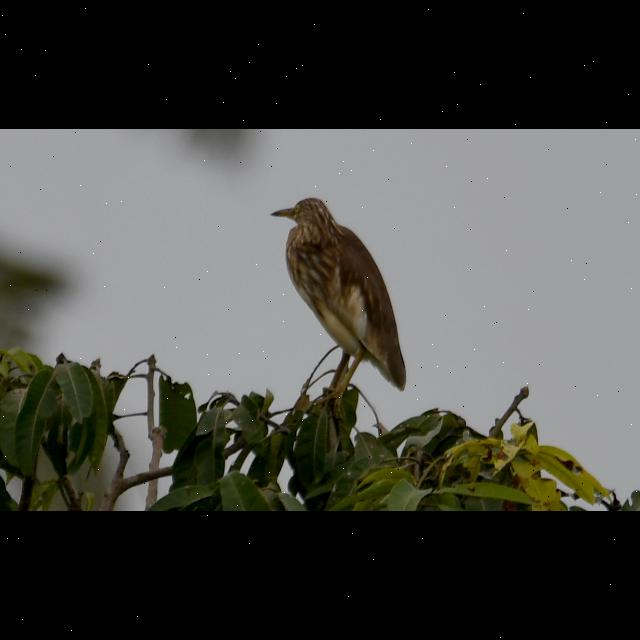heron: (262, 192, 411, 406)
